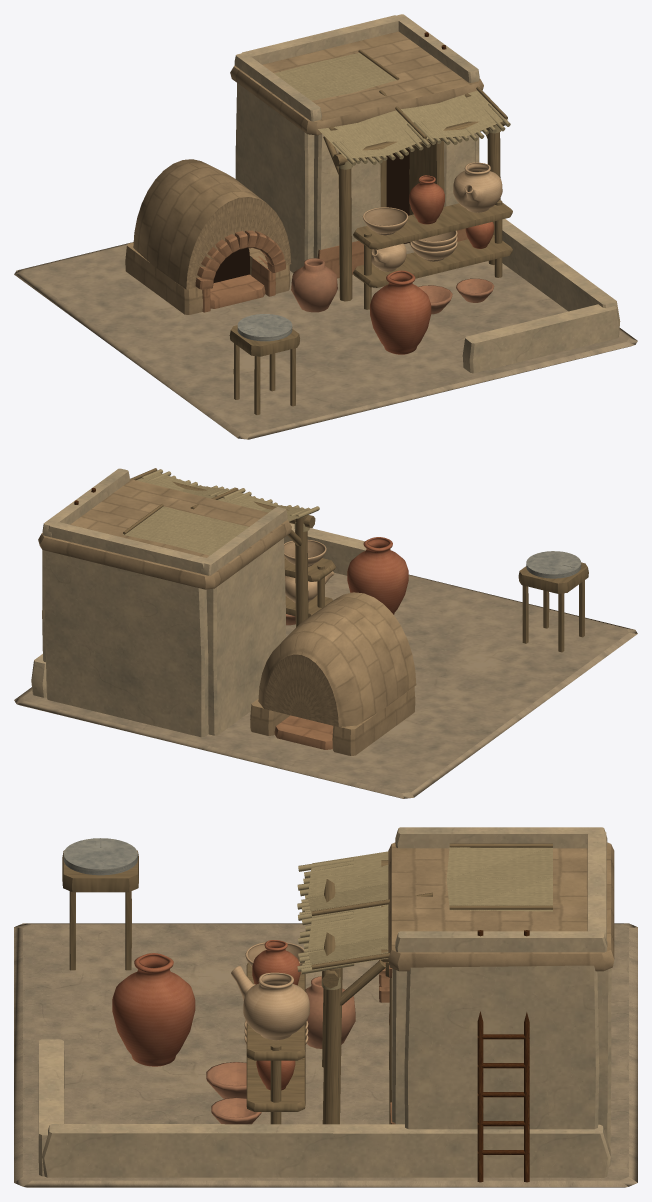
File: pottery.glb
3 renders of one model, top to bottom at view 1: azimuth 30°, elevation 25°; view 2: azimuth 150°, elevation 25°; view 3: azimuth 270°, elevation 25°, orthographic. The views are drawn at different scales.
Visible parts, largest first — view 1: original-pottery-alluvial-earth, original-pottery-warm-clay-plaster, original-pottery-game-raw-brick-facing, original-pottery-worn-timber, original-pottery-handmade-yard-craft, original-pottery-reed-mat, original-pottery-game-fired-brick-facing, workshop-pottery-courtyard-pottery, original-pottery-game-door-shadow, potter-turntable; view 2: original-pottery-warm-clay-plaster, original-pottery-alluvial-earth, original-pottery-game-raw-brick-facing, original-pottery-worn-timber, original-pottery-reed-mat, original-pottery-handmade-yard-craft, original-pottery-game-fired-brick-facing, potter-turntable; view 3: original-pottery-warm-clay-plaster, original-pottery-alluvial-earth, original-pottery-reed-mat, original-pottery-game-raw-brick-facing, original-pottery-worn-timber, original-pottery-handmade-yard-craft, workshop-pottery-courtyard-pottery, roof-access-pottery, potter-turntable.
Part boxes in pixels (bbox=[...]): original-pottery-alluvial-earth: bbox=[14, 242, 637, 439]; original-pottery-warm-clay-plaster: bbox=[234, 14, 620, 373]; original-pottery-game-raw-brick-facing: bbox=[125, 31, 483, 314]; original-pottery-worn-timber: bbox=[229, 49, 512, 414]; original-pottery-handmade-yard-craft: bbox=[362, 162, 502, 354]; original-pottery-reed-mat: bbox=[274, 53, 510, 169]; original-pottery-game-fired-brick-facing: bbox=[195, 228, 467, 312]; workshop-pottery-courtyard-pottery: bbox=[291, 258, 494, 314]; original-pottery-game-door-shadow: bbox=[213, 149, 409, 282]; potter-turntable: bbox=[237, 314, 292, 341]; original-pottery-warm-clay-plaster: bbox=[31, 468, 390, 737]; original-pottery-alluvial-earth: bbox=[14, 572, 637, 798]; original-pottery-game-raw-brick-facing: bbox=[38, 479, 416, 755]; original-pottery-worn-timber: bbox=[123, 468, 588, 652]; original-pottery-reed-mat: bbox=[122, 469, 319, 555]; original-pottery-handmade-yard-craft: bbox=[284, 537, 408, 614]; original-pottery-game-fired-brick-facing: bbox=[274, 715, 333, 749]; potter-turntable: bbox=[526, 551, 581, 578]; original-pottery-warm-clay-plaster: bbox=[38, 827, 611, 1177]; original-pottery-alluvial-earth: bbox=[14, 923, 637, 1187]; original-pottery-reed-mat: bbox=[297, 847, 552, 989]; original-pottery-game-raw-brick-facing: bbox=[388, 842, 614, 971]; original-pottery-worn-timber: bbox=[62, 843, 552, 1124]; original-pottery-handmade-yard-craft: bbox=[112, 940, 309, 1090]; workshop-pottery-courtyard-pottery: bbox=[206, 976, 355, 1124]; roof-access-pottery: bbox=[477, 930, 529, 1182]; potter-turntable: bbox=[63, 838, 137, 875].
Size of the model in its own units: 5.37 by 2.3 by 5.37.
Materials: 11 (10 with a texture image).
